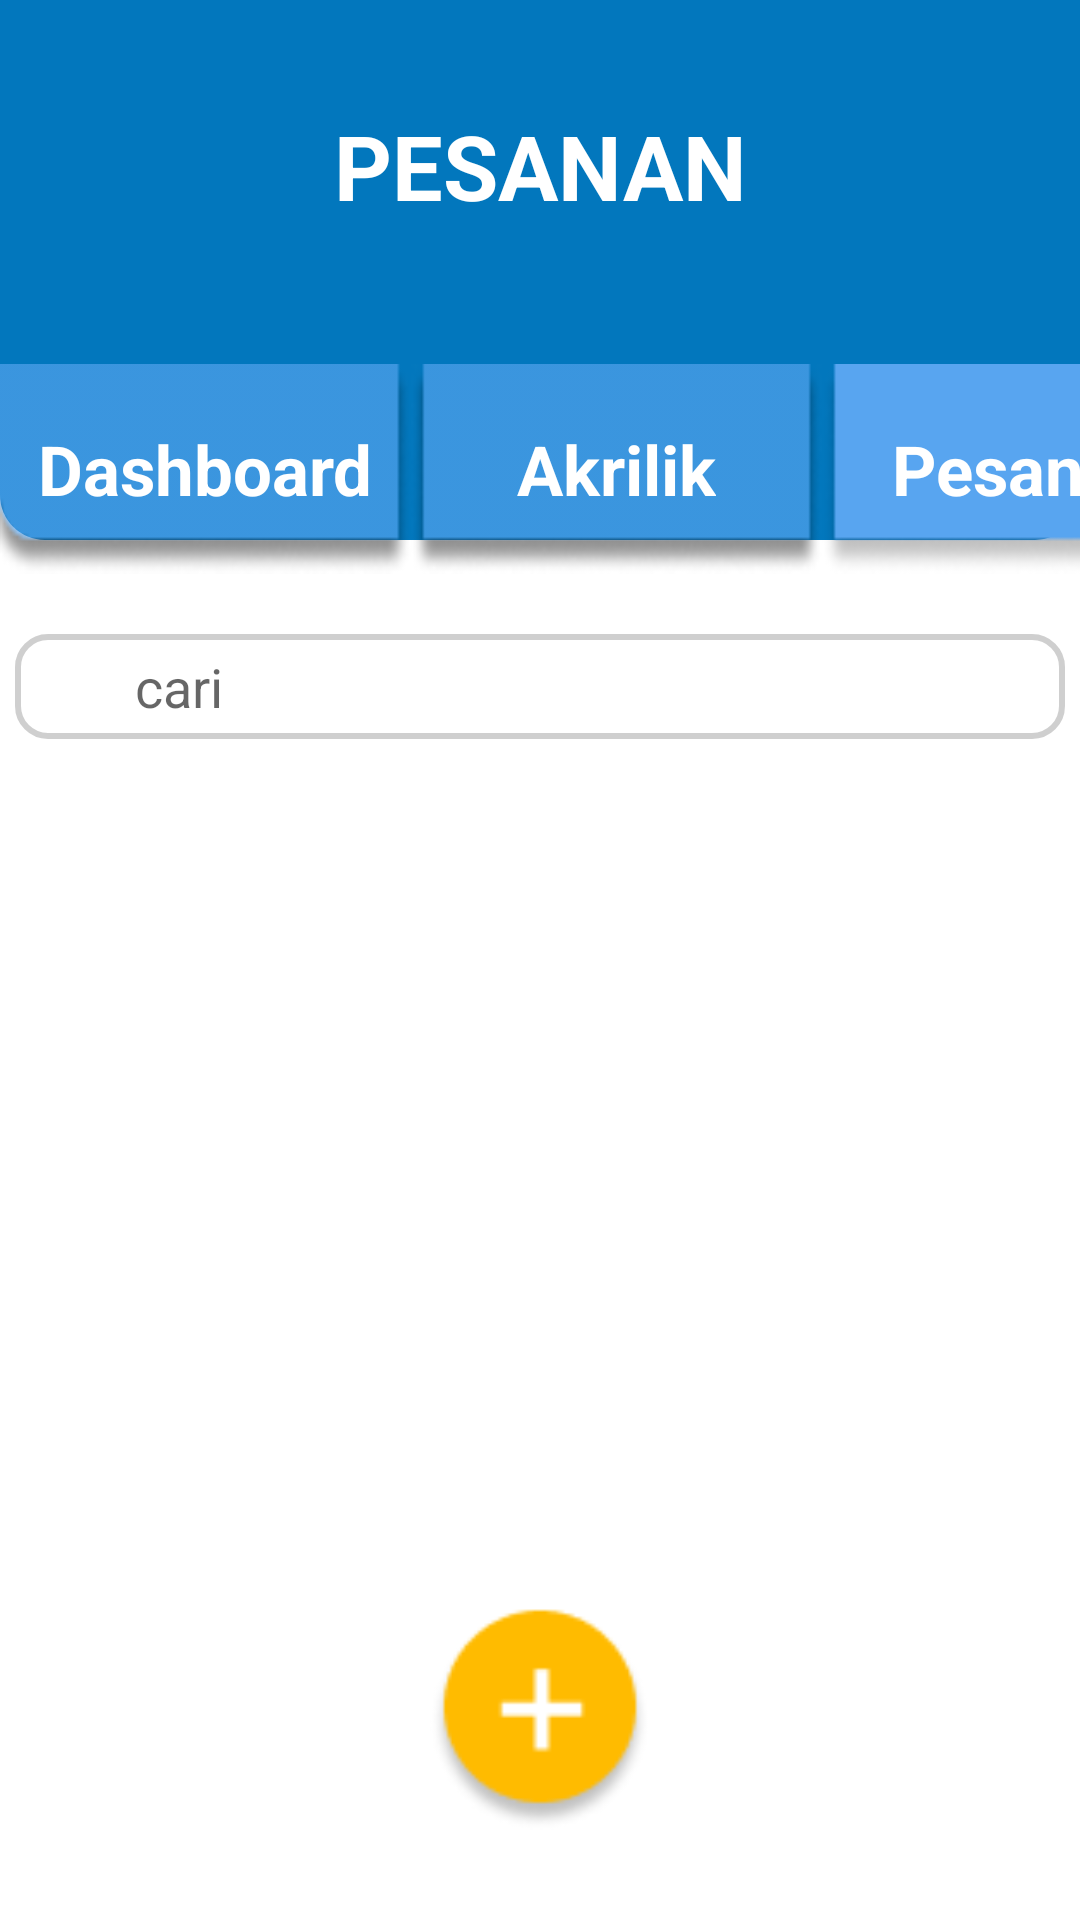

Screen size 1080 × 1920. Icon name, then its box in pixels as [x1, y1, x2, y2]:
tambah: [442, 1609, 638, 1818]
